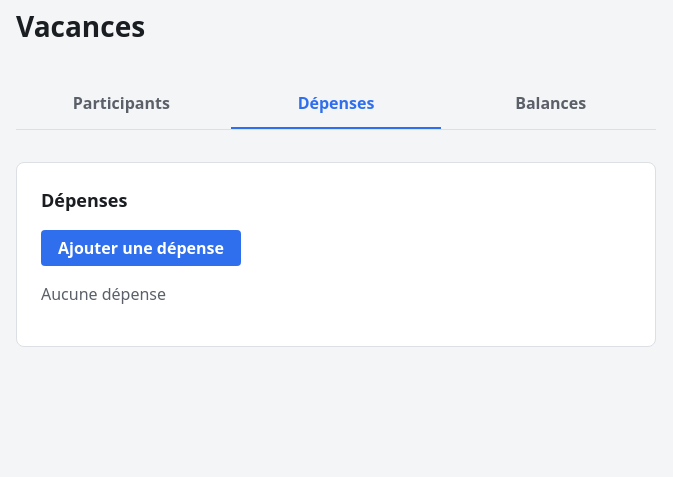
GroupView › le clic sur l'onglet Balances affiche les balances et les remboursements
The image size is (673, 477).
expect the button "Ajouter une dépense" is shown: met, box [41,230,241,266]
Click the button "Balances" at (551, 104), box [445,79,656,129]
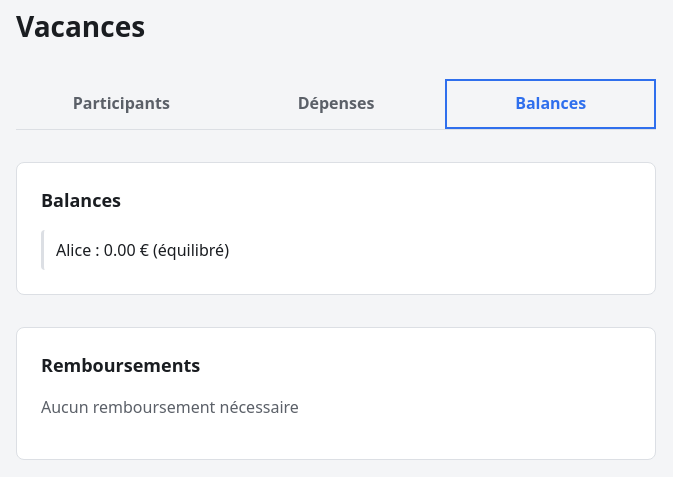
expect the list item "Alice : 0.00 € (équilibré)" is shown: met, box [41,230,631,270]
expect the text "Aucun remboursement nécessaire" is shown: met, box [41,396,299,418]
